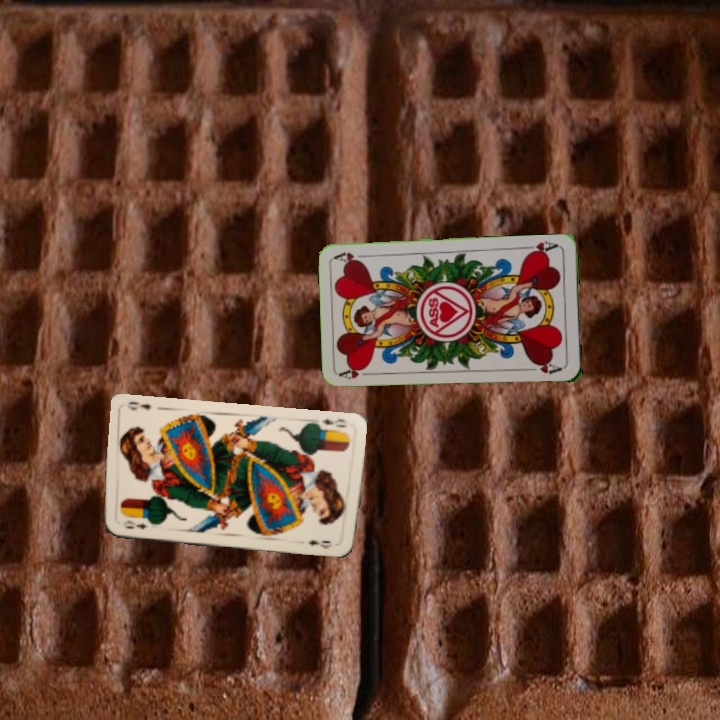EO: (318, 414, 349, 430), (119, 517, 149, 532)
HA: (521, 237, 561, 258), (336, 364, 377, 382)
